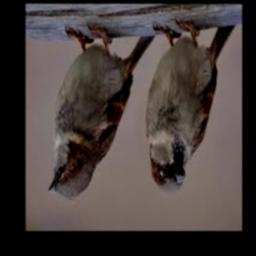Sparrow: (48, 25, 157, 199), (145, 20, 236, 195)
